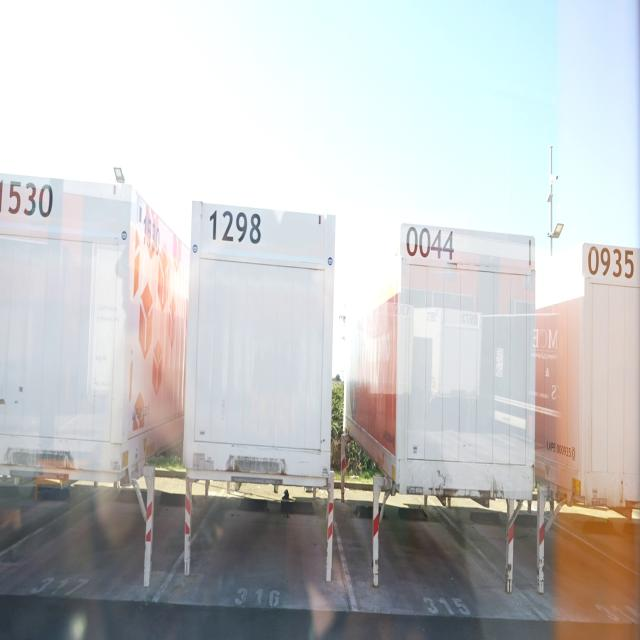Code: (207, 202, 268, 257), (584, 239, 636, 291), (404, 222, 459, 269), (140, 207, 164, 258)
